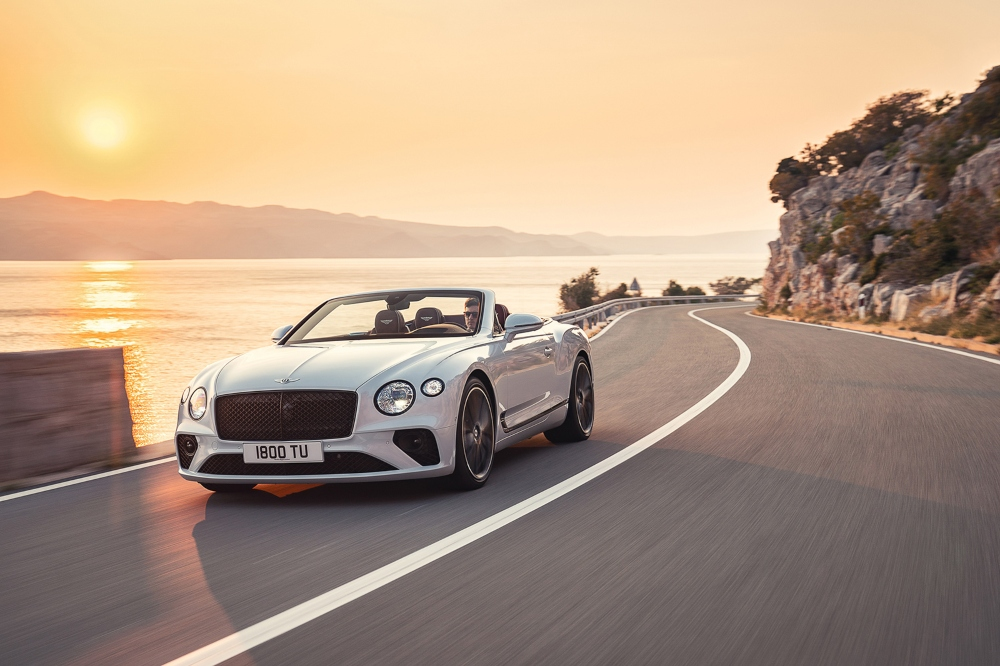car: (174, 288, 595, 496)
